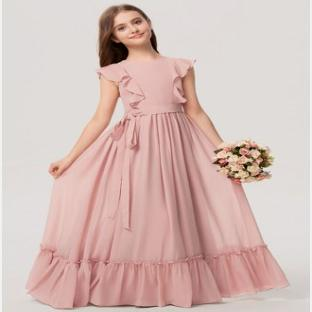Human: (26, 4, 289, 308)
